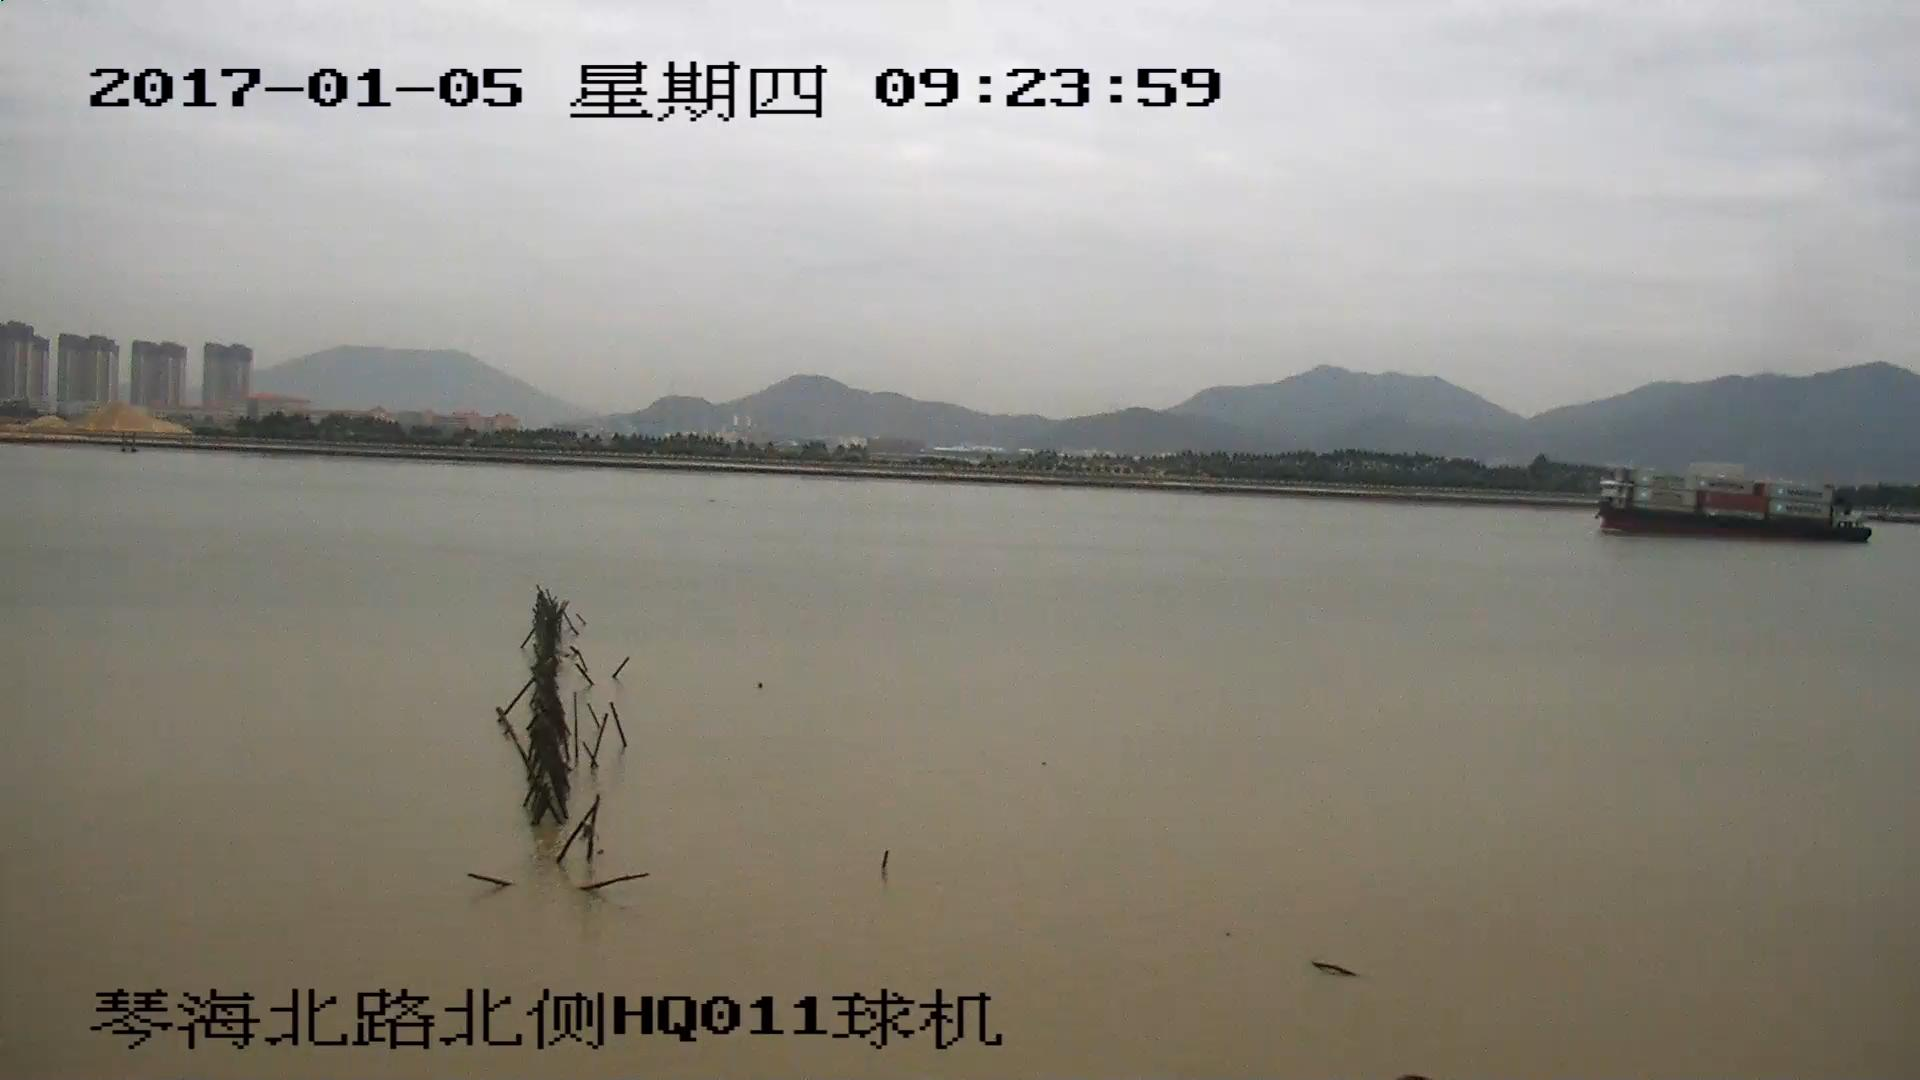container ship: (1596, 469, 1869, 542)
